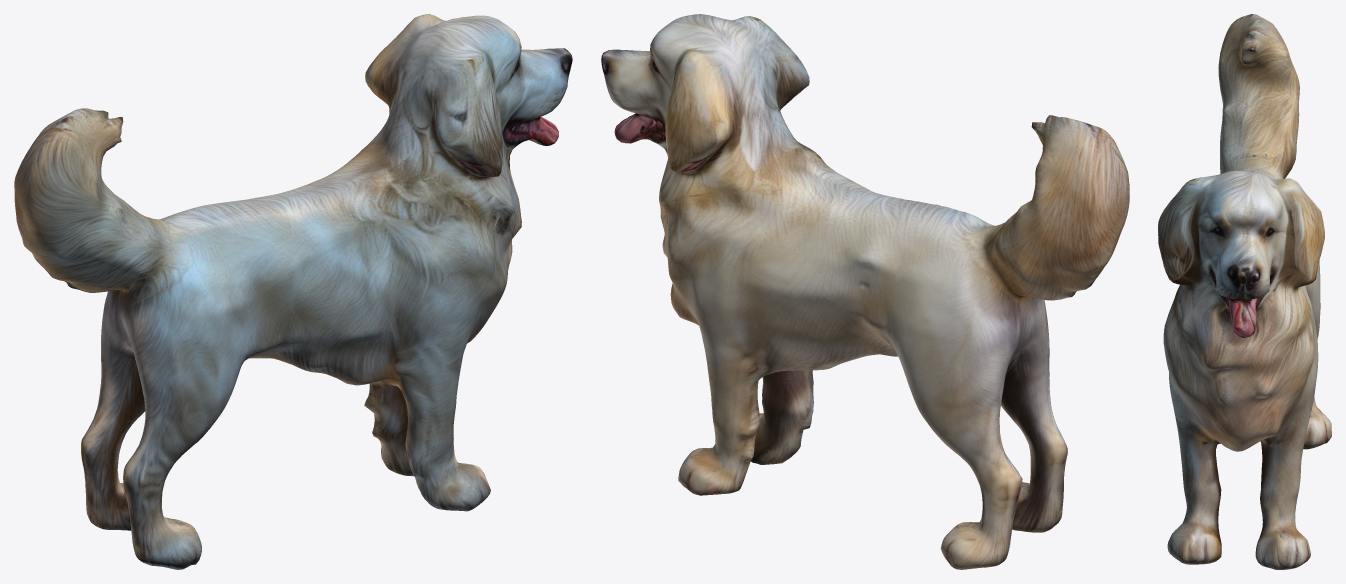
The model's file is golden.glb.
The picture shows the model from 3 angles, left to right: view 1: azimuth 30°, elevation 25°; view 2: azimuth 150°, elevation 25°; view 3: azimuth 270°, elevation 25°; orthographic projection. The views are drawn at different scales.
Size of the model in its own units: 1.2 by 0.9704 by 0.3845.
1 material, 1 textured.
